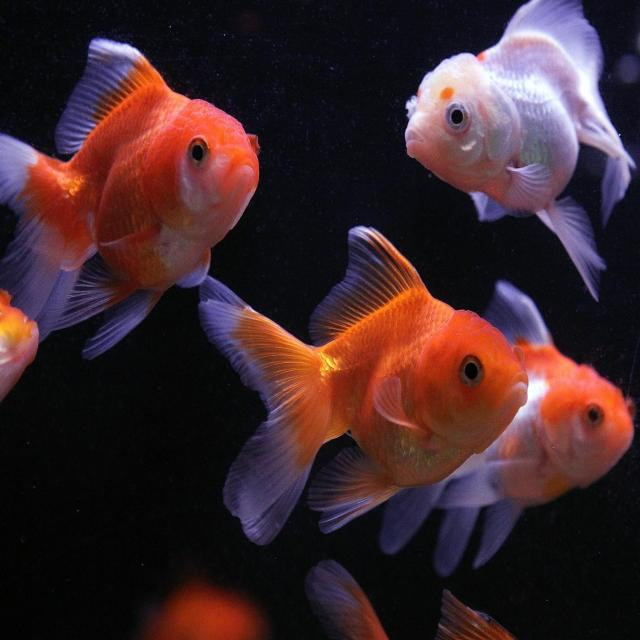GoldFish: (222, 226, 524, 534), (0, 35, 261, 355), (402, 0, 640, 301), (393, 296, 638, 544)
